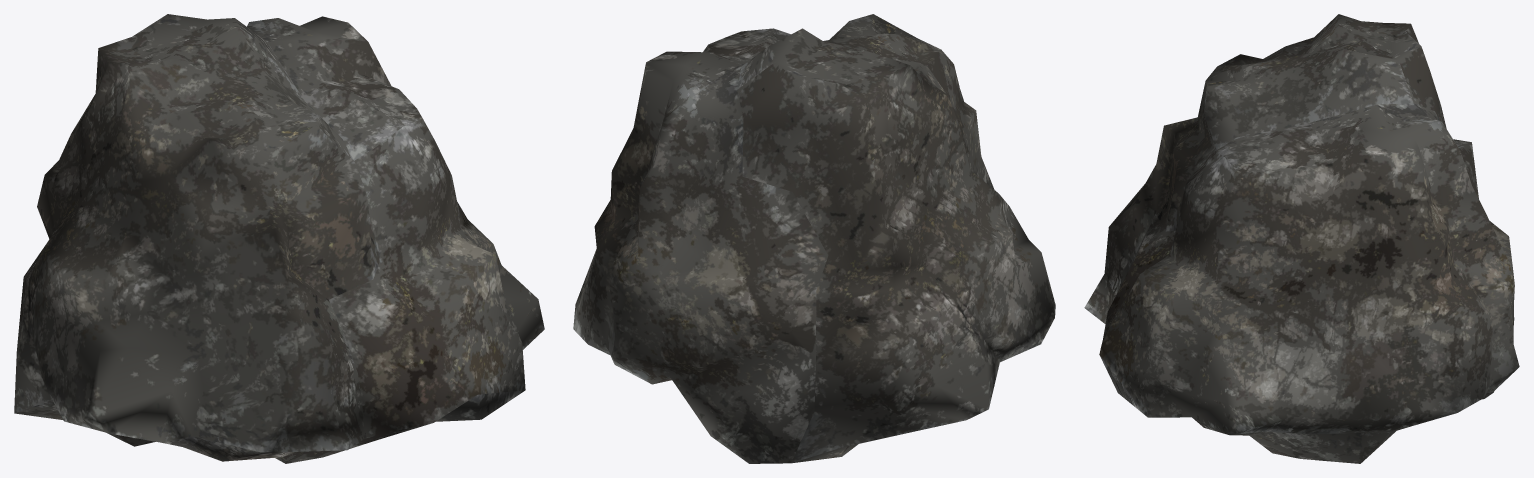
Rendered from Stage_Obj003.fbx.
3 views of the same model, side by side, from view 1: azimuth 30°, elevation 25°; view 2: azimuth 150°, elevation 25°; view 3: azimuth 270°, elevation 25° (orthographic). The views are drawn at different scales.
Parts seen in each view (by area): view 1: SM_SampleGame_Rock002; view 2: SM_SampleGame_Rock002; view 3: SM_SampleGame_Rock002.
Boxes of the visible parts, x1,y1,x2,y2 form: SM_SampleGame_Rock002: (14,14,544,463); SM_SampleGame_Rock002: (573,14,1055,463); SM_SampleGame_Rock002: (1084,14,1519,463).
Bounding box in the file's own units: 1329 × 1129 × 1228.
1 material, 1 textured.
